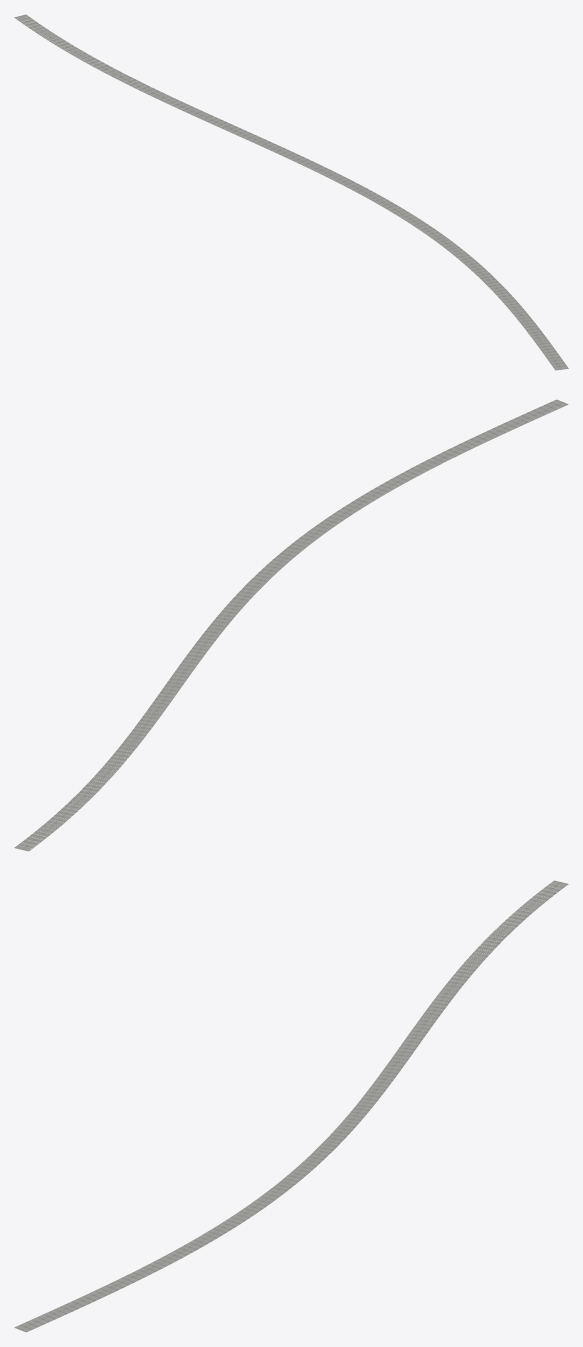
Rendered from farm_sidewalk_left.dae.
3 views of the same model, one above another, from view 1: azimuth 30°, elevation 25°; view 2: azimuth 150°, elevation 25°; view 3: azimuth 330°, elevation 25° (orthographic). The views are drawn at different scales.
Visible parts, largest first — view 1: farm_sidewalk_left_node; view 2: farm_sidewalk_left_node; view 3: farm_sidewalk_left_node.
Part boxes in pixels (bbox=[...]): farm_sidewalk_left_node: bbox=[14, 14, 568, 370]; farm_sidewalk_left_node: bbox=[14, 399, 568, 851]; farm_sidewalk_left_node: bbox=[14, 880, 568, 1332].
Size of the model in its own units: 13.7 by 119 by 0.
1 material, 1 textured.
